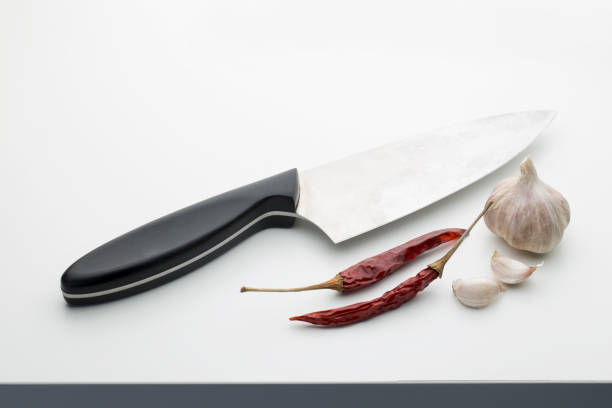knife: (57, 107, 561, 310)
